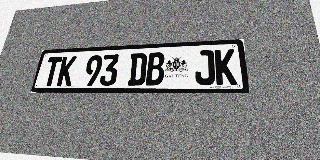3: (99, 54, 119, 86)
9: (83, 55, 103, 86)
B: (145, 52, 165, 85)
D: (127, 53, 147, 86)
J: (195, 50, 215, 85)
K: (215, 49, 237, 85), (56, 56, 77, 86)
T: (42, 57, 63, 86)
